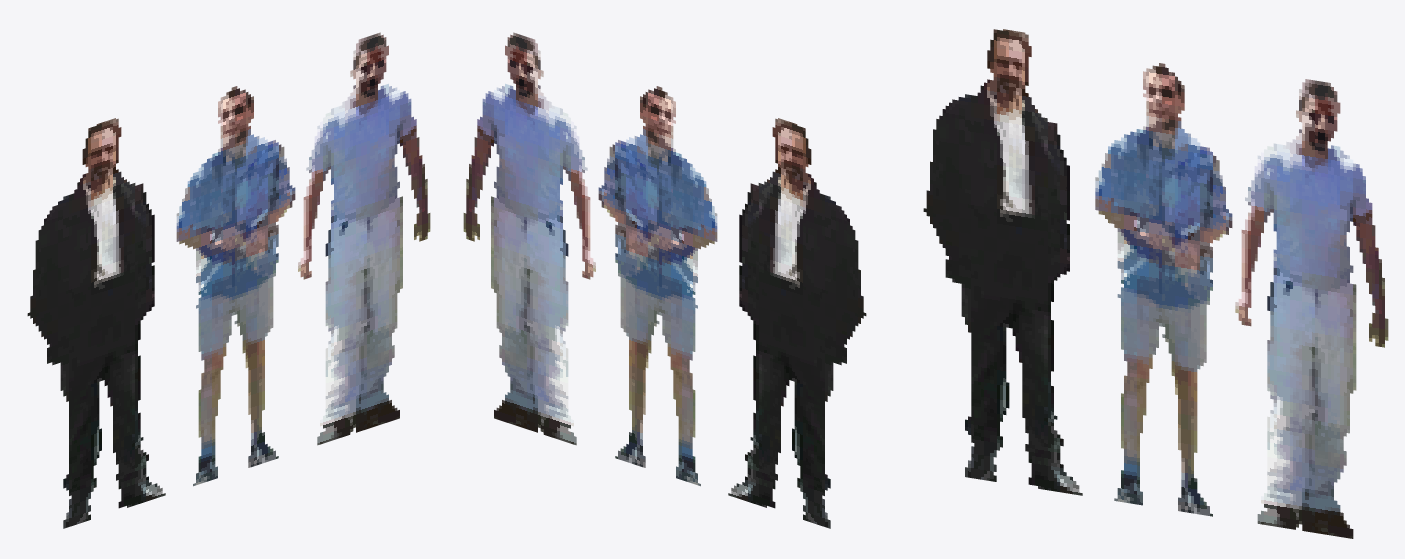
File: stage-dese-p6-45.glb
3 renders of one model, left to right at view 1: azimuth 30°, elevation 25°; view 2: azimuth 150°, elevation 25°; view 3: azimuth 330°, elevation 25°, orthographic. The views are drawn at different scales.
Bounding box in the file's own units: 2 × 1.96 × 0.
Materials: 1 (1 with a texture image).
